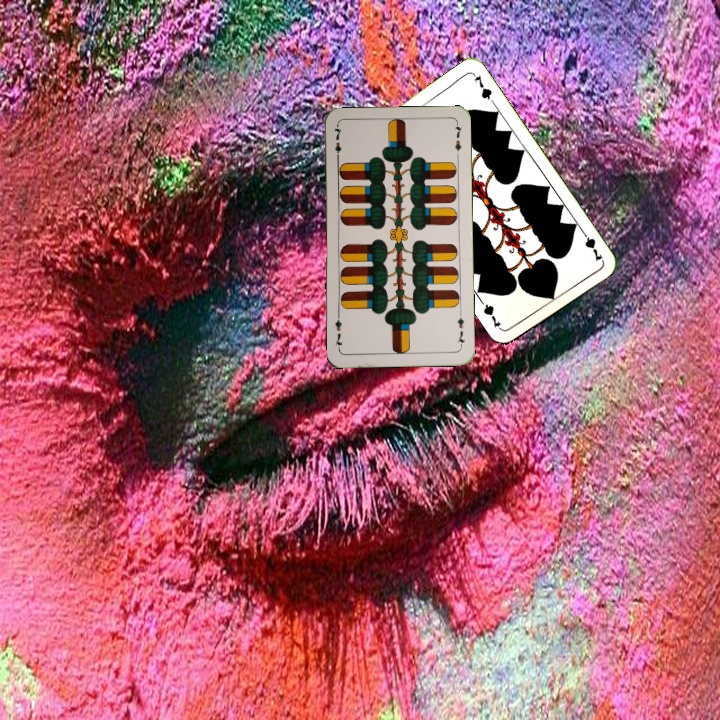E7: (453, 309, 468, 349), (330, 123, 344, 163)
G7: (577, 226, 605, 264)
